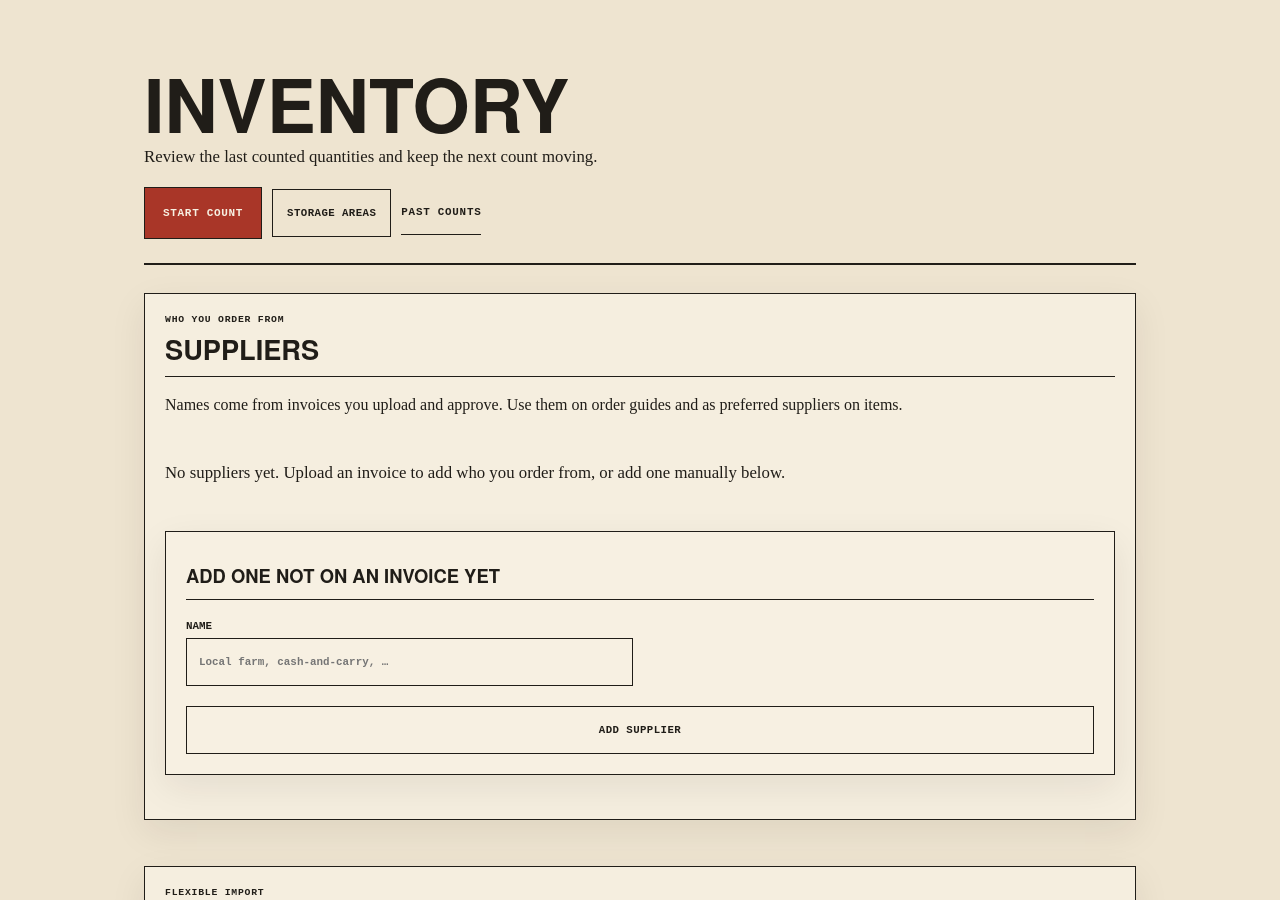
Test: InventoryWorkspace count flow › re-enables actions after a failed draft save instead of wedging busy state
Click the button "Start count": (203, 213) x1=144 y1=187 x2=262 y2=239
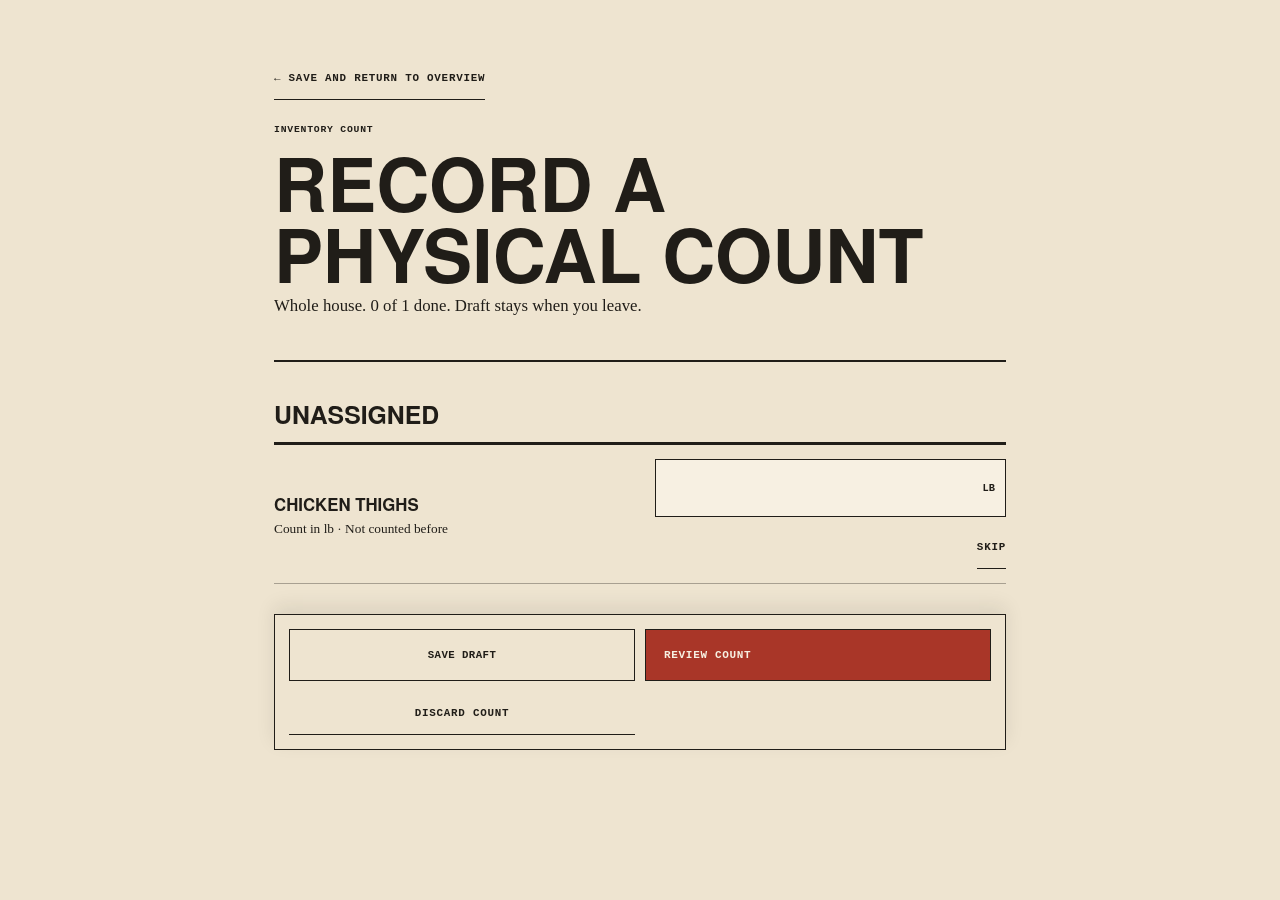
Result: the heading "Record a physical count" is shown at x1=274 y1=147 x2=1006 y2=288
In the field named "Chicken Thighs, quantity in lb": (814, 488) x1=656 y1=460 x2=972 y2=516, type "6"
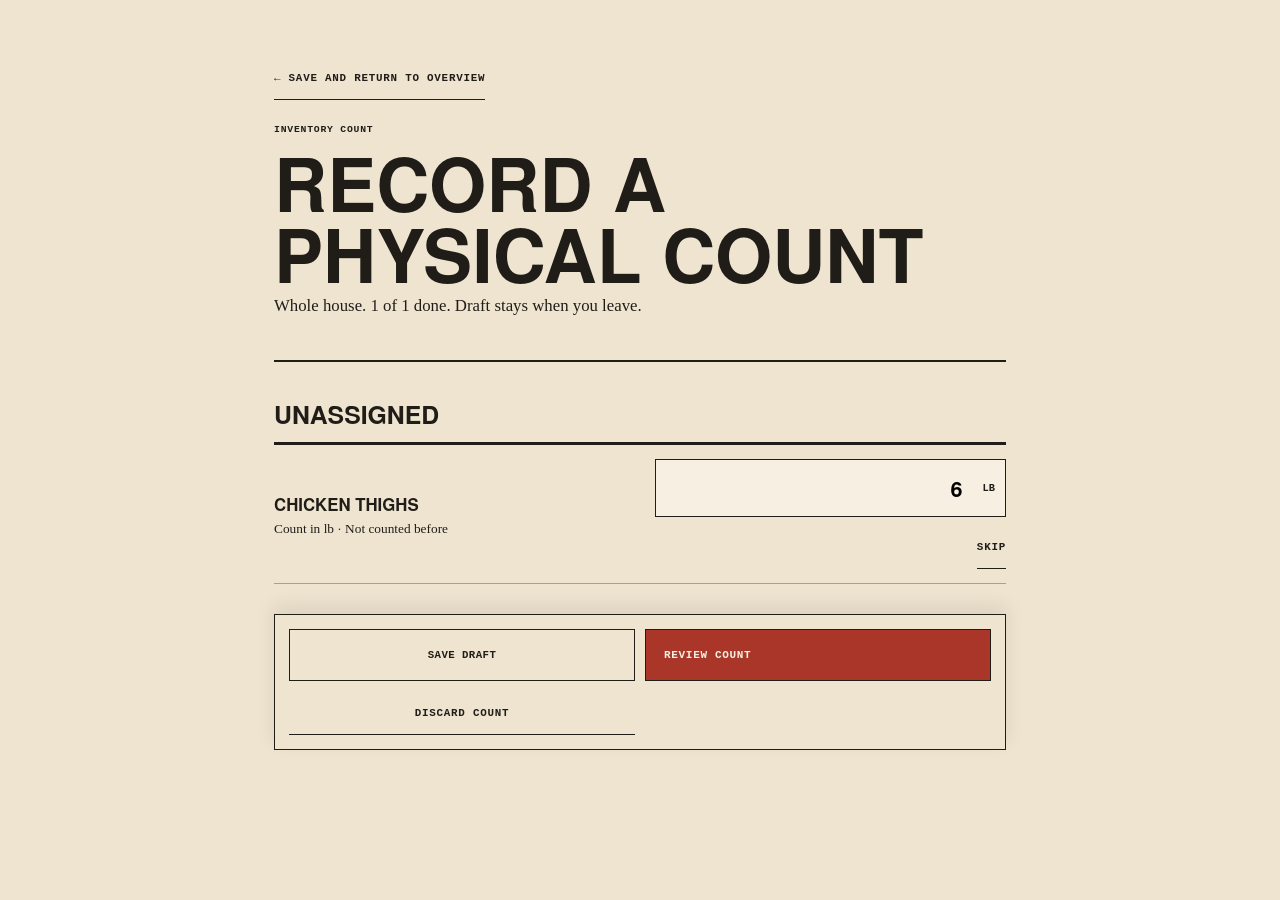
Click the button "Save draft": (462, 655) x1=289 y1=629 x2=635 y2=681
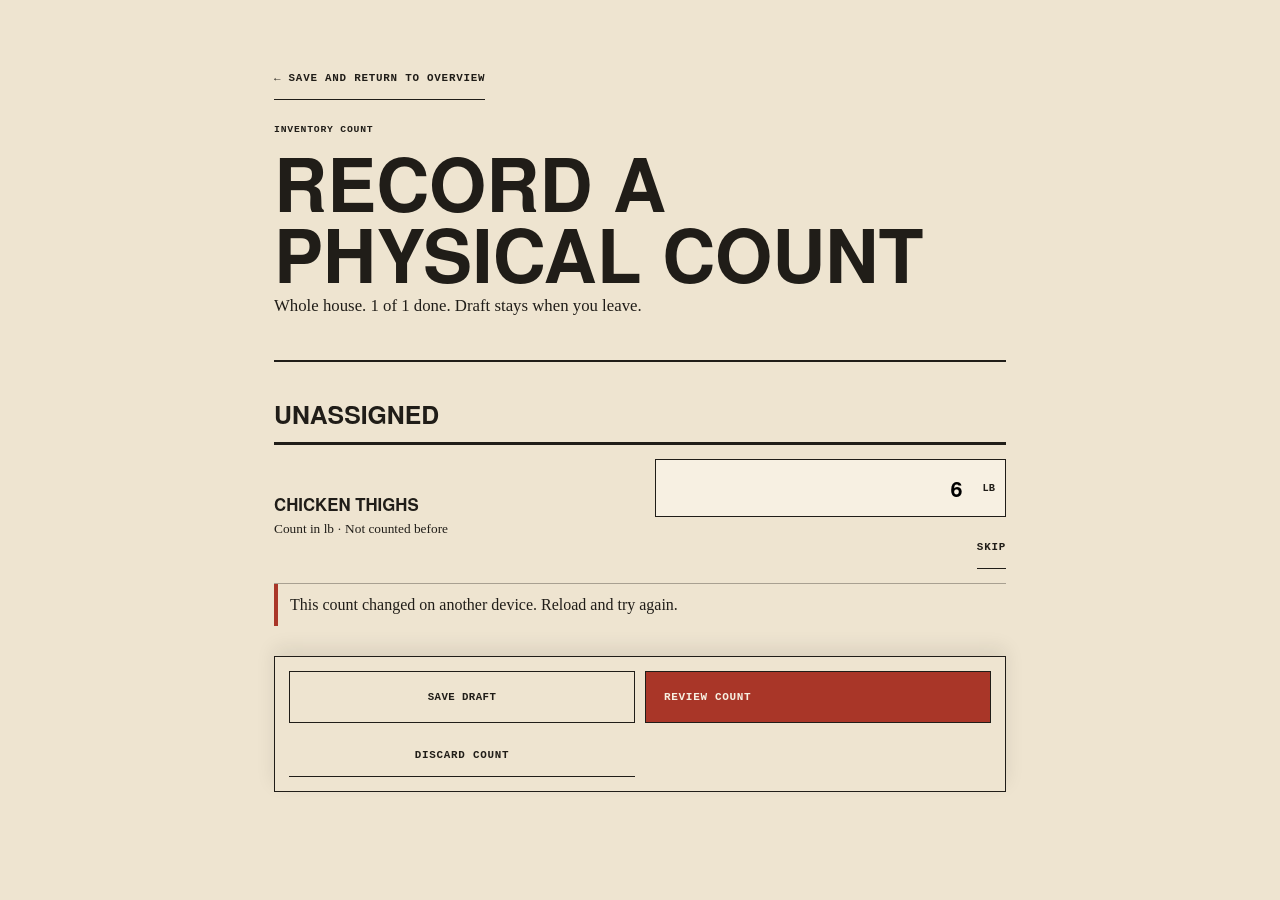
Result: the button "Save draft" is enabled at x1=289 y1=671 x2=635 y2=723
Result: the text "This count changed on another device. Reload and try again." is shown at x1=274 y1=584 x2=1006 y2=626
